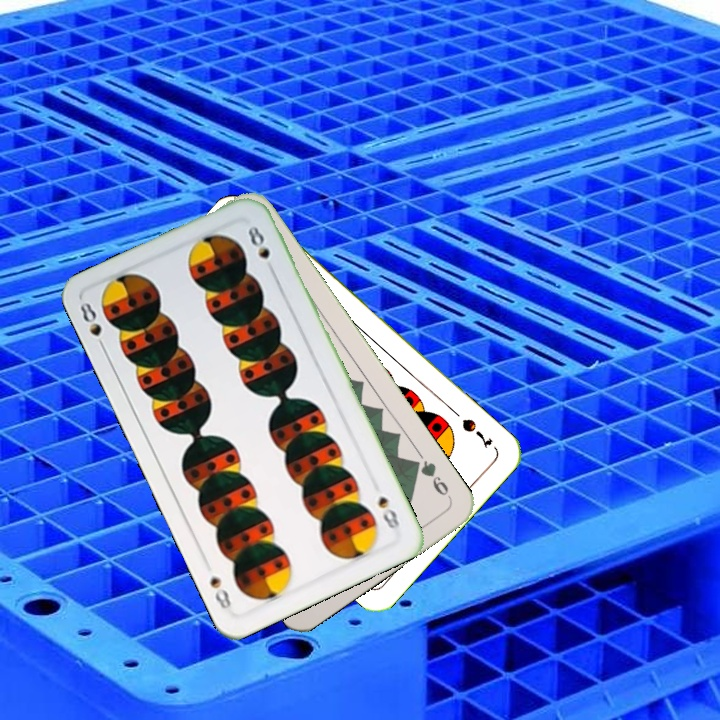G9: (407, 456, 454, 502)
S7: (457, 414, 495, 452)
S8: (75, 298, 109, 354), (373, 492, 403, 533)
